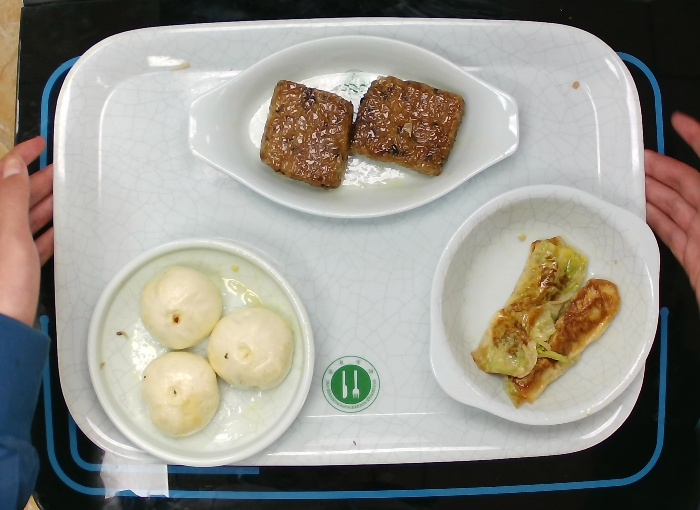JYsf-Shuang_Er_Wan: (424, 180, 665, 430)
JYsf-Xiao_Yuan_Pan: (81, 235, 322, 474)
JYsf-Yu_Pan: (182, 30, 525, 224)
